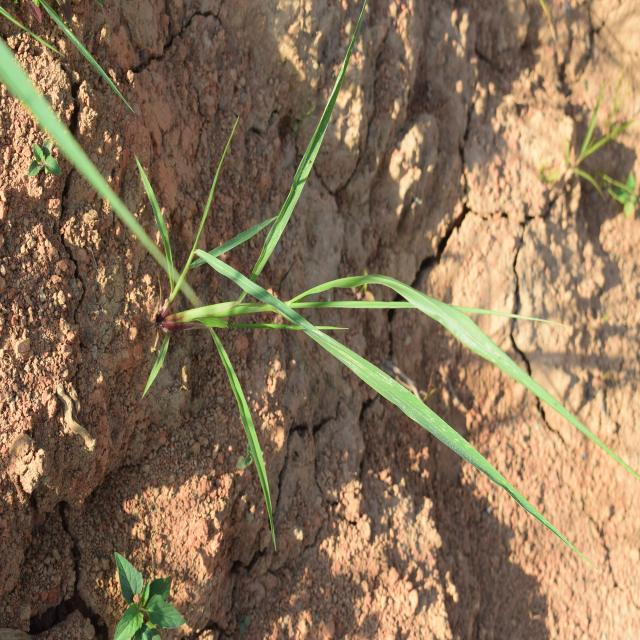green_foxtail: (148, 147, 538, 503)
